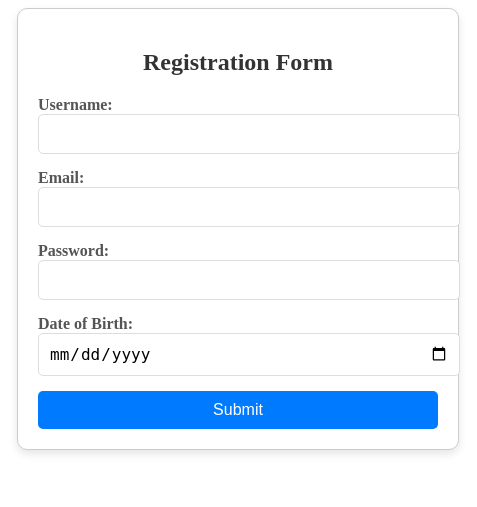
Registration Form › should not be able to fill form with empty username
Check: the heading "Registration Form" is shown, box [143,49,333,75]
Step 1. Type "testas@testa.com" into the field named "email" below "Email:" → (249, 207), box [38,187,460,227]
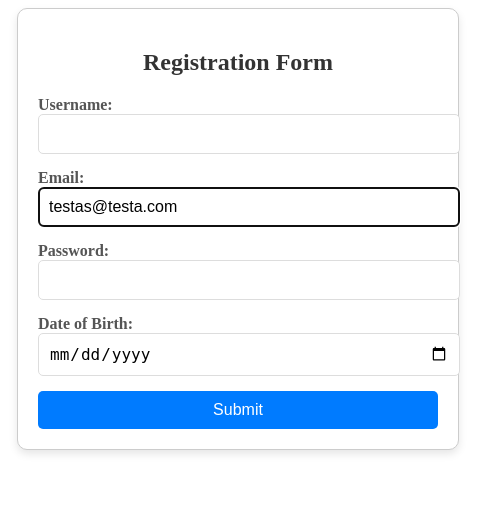
Step 2. Type "123456" into the password field named "password" → (249, 280), box [38,260,460,300]
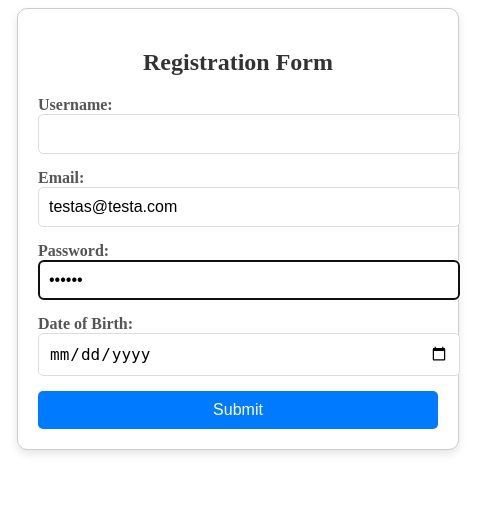
Step 3. Type "1985-01-09" into the date field with test id "dob-input" → (249, 355), box [38,333,460,376]
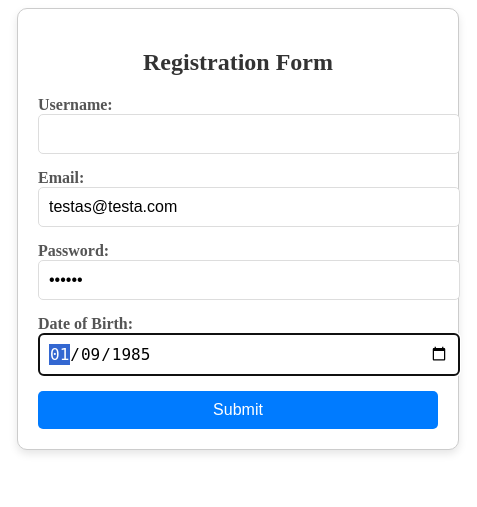
Step 4. Click the button "Submit" → (238, 410), box [38,391,438,429]
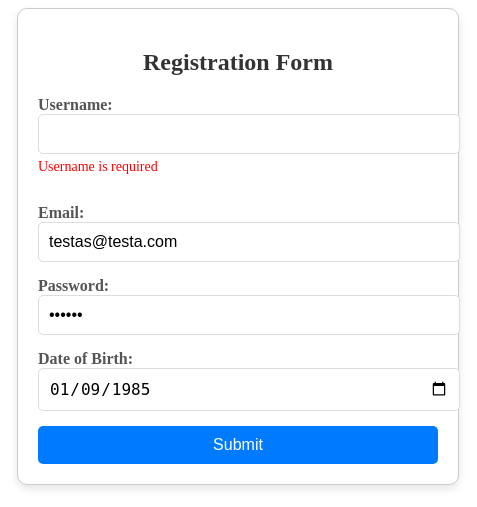
Check: the text "Username is required" is shown, box [38,159,158,174]
